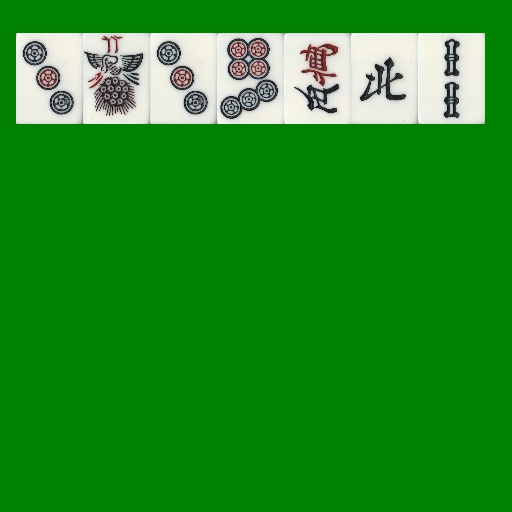1s: (83, 33, 150, 124)
2s: (418, 33, 485, 124)
3p: (16, 33, 83, 124), (150, 33, 217, 124)
5m: (284, 33, 351, 124)
7p: (217, 33, 284, 124)
north: (351, 33, 418, 124)
